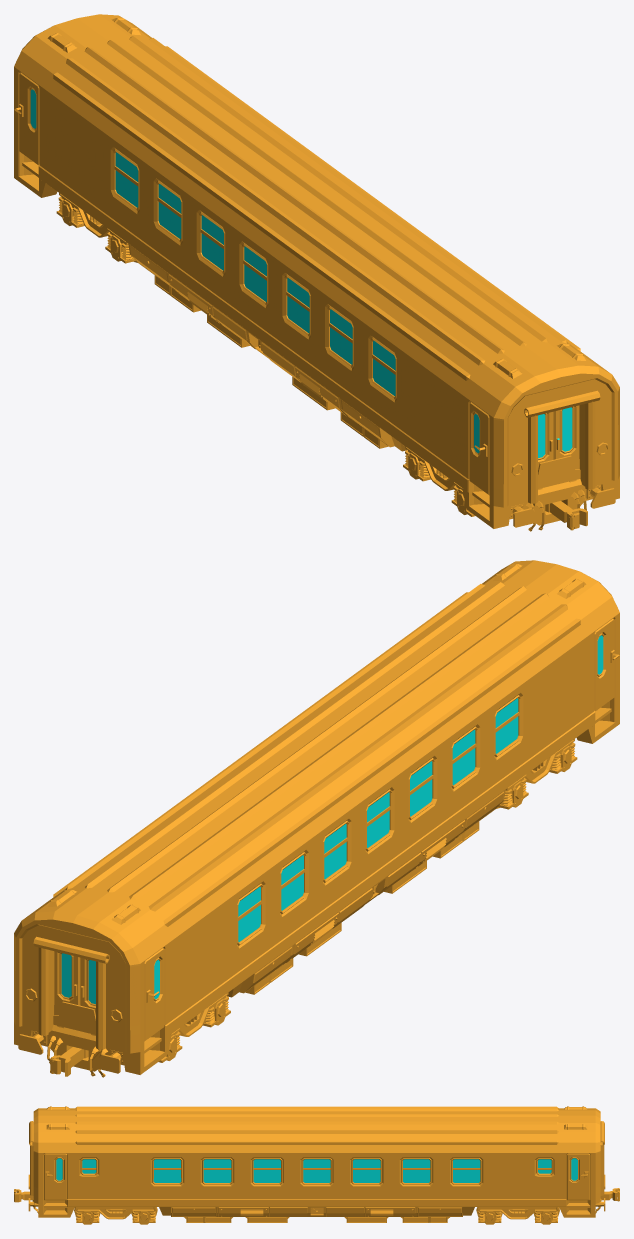
File: SM_Train_Wagon_Travel_C.fbx
The picture shows the model from 3 angles, top to bottom: view 1: azimuth 30°, elevation 25°; view 2: azimuth 150°, elevation 25°; view 3: azimuth 270°, elevation 25°; orthographic projection. The views are drawn at different scales.
Visible parts, largest first — view 1: SM_Train_Wagon_Travel_C_Base, SM_Train_Wagon_Travel_C_Base_Chassis_B, SM_Train_Wagon_Travel_C_Base_Chassis_F, SM_Train_Wagon_Travel_C_Base_Joint_F; view 2: SM_Train_Wagon_Travel_C_Base, SM_Train_Wagon_Travel_C_Base_Chassis_F, SM_Train_Wagon_Travel_C_Base_Chassis_B; view 3: SM_Train_Wagon_Travel_C_Base, SM_Train_Wagon_Travel_C_Base_Chassis_F, SM_Train_Wagon_Travel_C_Base_Chassis_B, SM_Train_Wagon_Travel_C_Base_Joint_F, SM_Train_Wagon_Travel_C_Base_Joint_B.
Boxes of the visible parts, x1,y1,x2,y2 form: SM_Train_Wagon_Travel_C_Base: [14, 14, 619, 531]; SM_Train_Wagon_Travel_C_Base_Chassis_B: [56, 193, 135, 263]; SM_Train_Wagon_Travel_C_Base_Chassis_F: [403, 446, 475, 516]; SM_Train_Wagon_Travel_C_Base_Joint_F: [545, 501, 587, 530]; SM_Train_Wagon_Travel_C_Base: [14, 560, 619, 1077]; SM_Train_Wagon_Travel_C_Base_Chassis_F: [498, 739, 577, 809]; SM_Train_Wagon_Travel_C_Base_Chassis_B: [158, 992, 230, 1062]; SM_Train_Wagon_Travel_C_Base: [28, 1106, 605, 1222]; SM_Train_Wagon_Travel_C_Base_Chassis_F: [75, 1207, 155, 1224]; SM_Train_Wagon_Travel_C_Base_Chassis_B: [478, 1207, 558, 1224]; SM_Train_Wagon_Travel_C_Base_Joint_F: [14, 1189, 33, 1202]; SM_Train_Wagon_Travel_C_Base_Joint_B: [600, 1188, 619, 1201].
Bounding box in the file's own units: 3.32 × 3.91 × 21.47.
